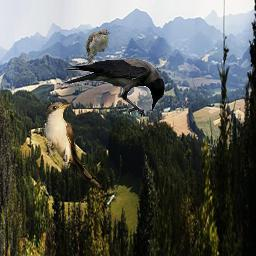Crow: (62, 57, 165, 117)
Cuckoo: (42, 101, 103, 189), (85, 29, 110, 65)
